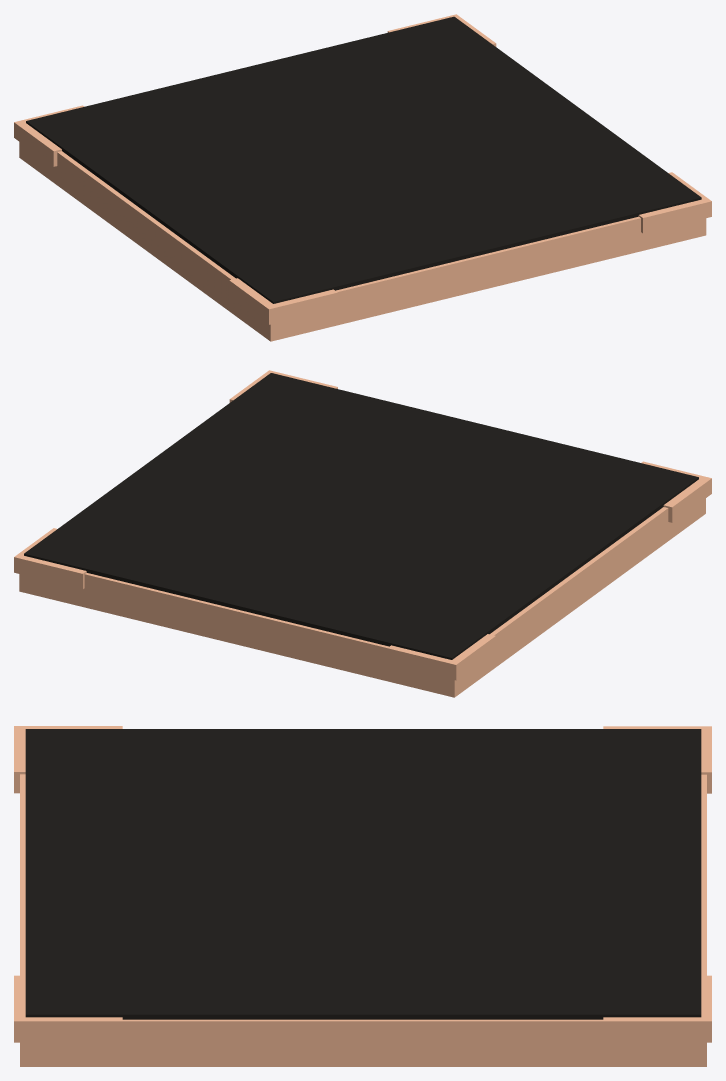
File: chess-board.glb
3 views of the same model, one above another, from view 1: azimuth 30°, elevation 25°; view 2: azimuth 150°, elevation 25°; view 3: azimuth 270°, elevation 25° (orthographic). The views are drawn at different scales.
Visible parts, largest first — view 1: Cube, Cube.001, Cube.005, Cube.002, Cube.004; view 2: Cube, Cube.001, Cube.004, Cube.003, Cube.005; view 3: Cube, Cube.001, Cube.002, Cube.003, Cube.005, Cube.004.
Part boxes in pixels (x1=…): Cube: x1=26, y1=16, x2=701, y2=303; Cube.001: x1=19, y1=142, x2=706, y2=341; Cube.005: x1=229, y1=278, x2=337, y2=324; Cube.002: x1=638, y1=172, x2=711, y2=233; Cube.004: x1=14, y1=105, x2=84, y2=166; Cube: x1=24, y1=373, x2=698, y2=659; Cube.001: x1=19, y1=498, x2=705, y2=697; Cube.004: x1=387, y1=634, x2=495, y2=680; Cube.003: x1=14, y1=528, x2=86, y2=589; Cube.005: x1=641, y1=461, x2=711, y2=522; Cube: x1=25, y1=729, x2=701, y2=1019; Cube.001: x1=20, y1=774, x2=706, y2=1066; Cube.002: x1=14, y1=975, x2=122, y2=1042; Cube.003: x1=603, y1=975, x2=711, y2=1042; Cube.005: x1=14, y1=726, x2=122, y2=793; Cube.004: x1=603, y1=726, x2=711, y2=793.
Size of the model in its own units: 10.56 by 0.8424 by 10.54.
